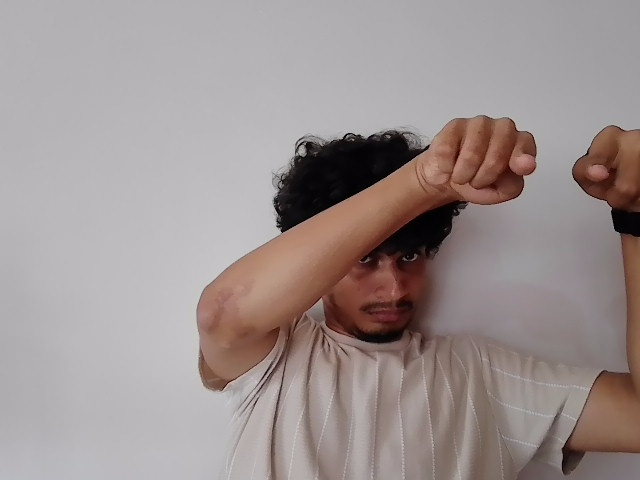same: (427, 119, 640, 217)
